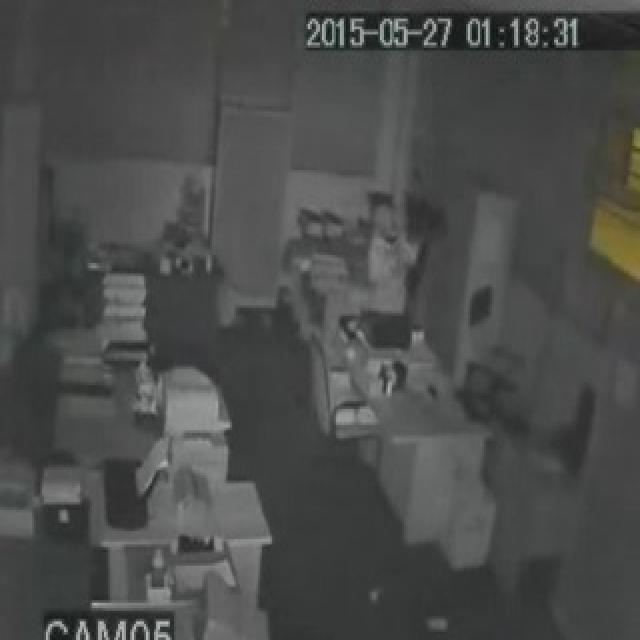thief: (356, 174, 417, 346)
